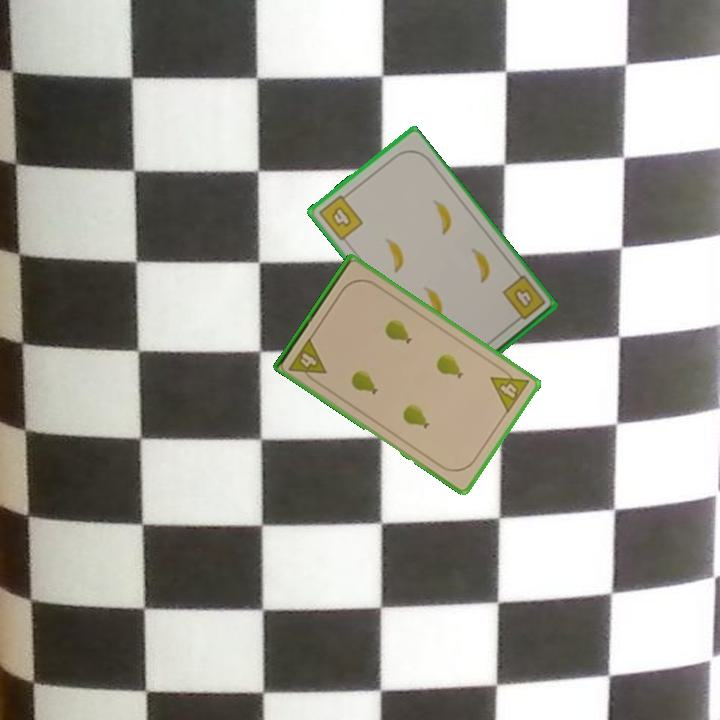4b: (315, 188, 366, 244), (498, 271, 548, 326)
4p: (487, 362, 532, 416), (285, 334, 329, 386)
